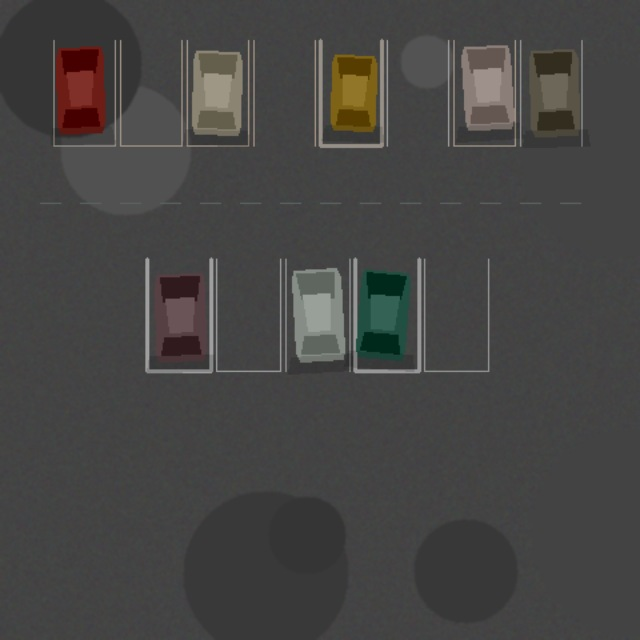space-empty: (216, 259, 280, 371), (424, 259, 488, 371), (253, 40, 315, 145), (120, 40, 181, 145), (387, 40, 448, 145)
space-occupied: (147, 259, 211, 371), (285, 259, 349, 371), (355, 259, 419, 371), (53, 40, 115, 145), (453, 40, 515, 145), (187, 40, 248, 145), (320, 40, 381, 145), (520, 40, 581, 145)
